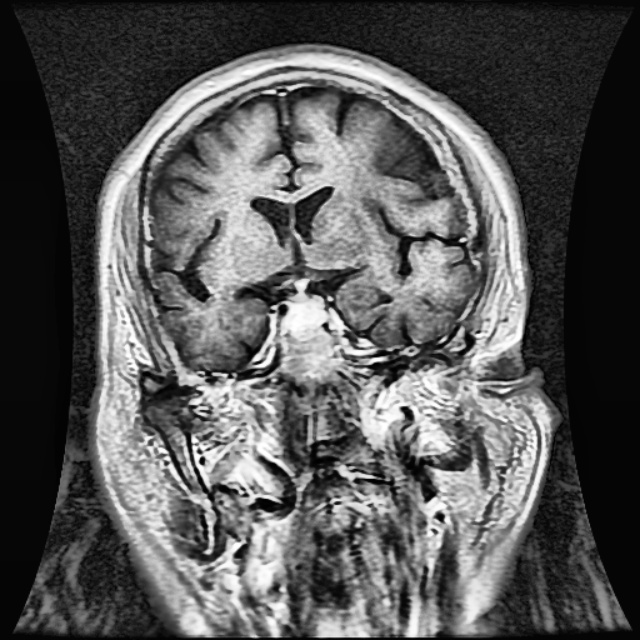Pituitary: (285, 298, 327, 330)
